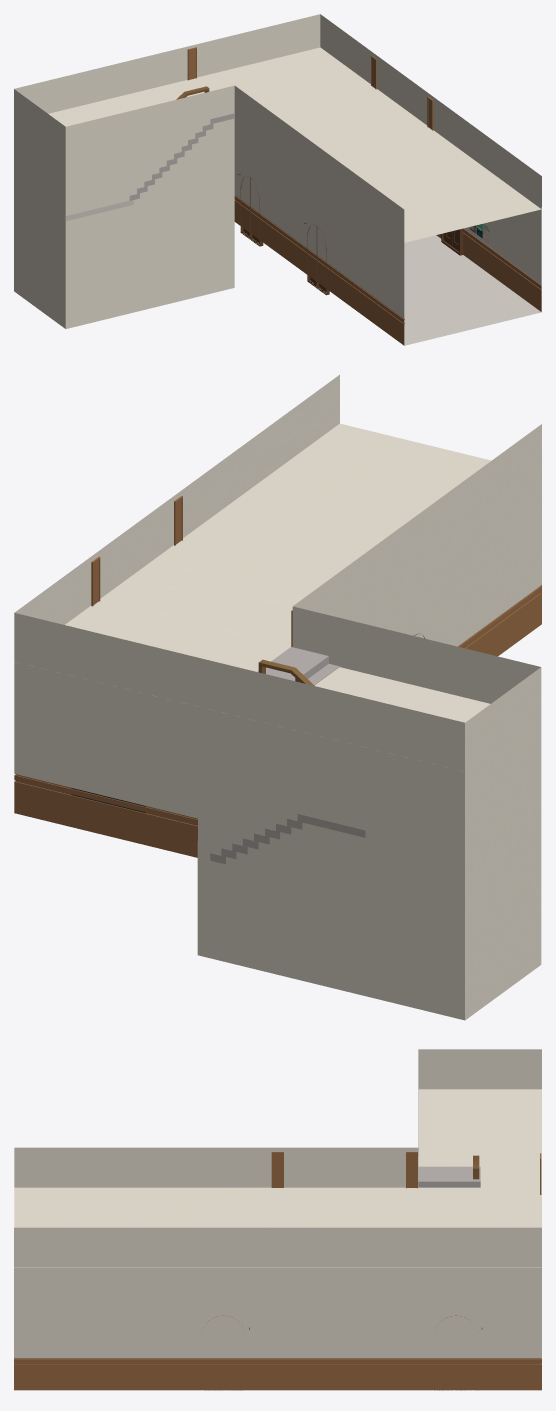
Rendered from corridor2.fbx.
The picture shows the model from 3 angles, top to bottom: view 1: azimuth 30°, elevation 25°; view 2: azimuth 150°, elevation 25°; view 3: azimuth 270°, elevation 25°; orthographic projection. The views are drawn at different scales.
Parts seen in each view (by area): view 1: corrodor2, Object192; view 2: corrodor2, Object192; view 3: corrodor2, Object192.
Part boxes in pixels (<box>): corrodor2: <box>14,14,541,345</box>; Object192: <box>48,47,541,242</box>; corrodor2: <box>14,374,541,1020</box>; Object192: <box>65,423,491,722</box>; corrodor2: <box>14,1049,541,1390</box>; Object192: <box>14,1089,541,1267</box>.
Size of the model in its own units: 18.71 by 23.24 by 11.72.
2 materials, 2 textured.
